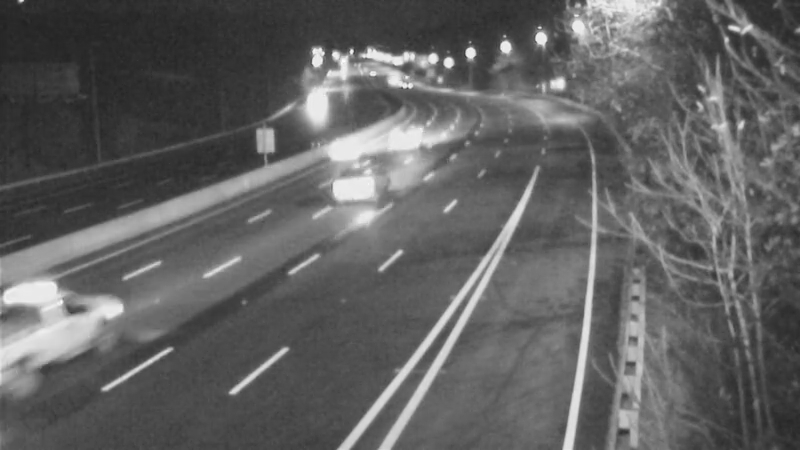vehicle: (1, 281, 111, 391), (305, 111, 385, 191), (314, 150, 394, 230), (364, 54, 414, 104), (375, 57, 425, 107), (381, 111, 431, 161), (288, 78, 338, 128)
